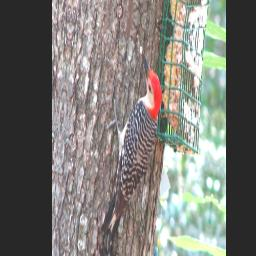Woodpecker: (94, 36, 166, 256)
